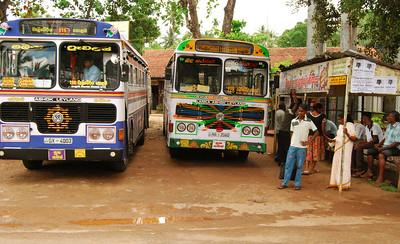bus: (1, 9, 151, 173), (163, 35, 271, 161)
